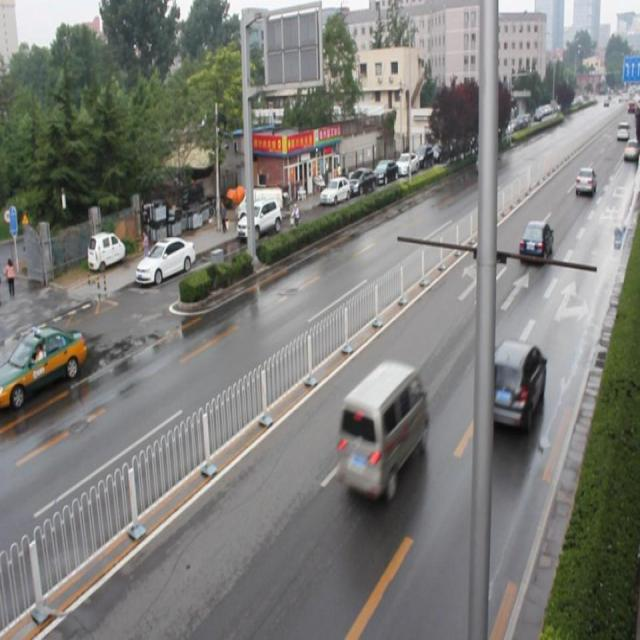car: (482, 337, 546, 430), (518, 220, 551, 266), (574, 164, 598, 195)
truck: (339, 360, 427, 498)
